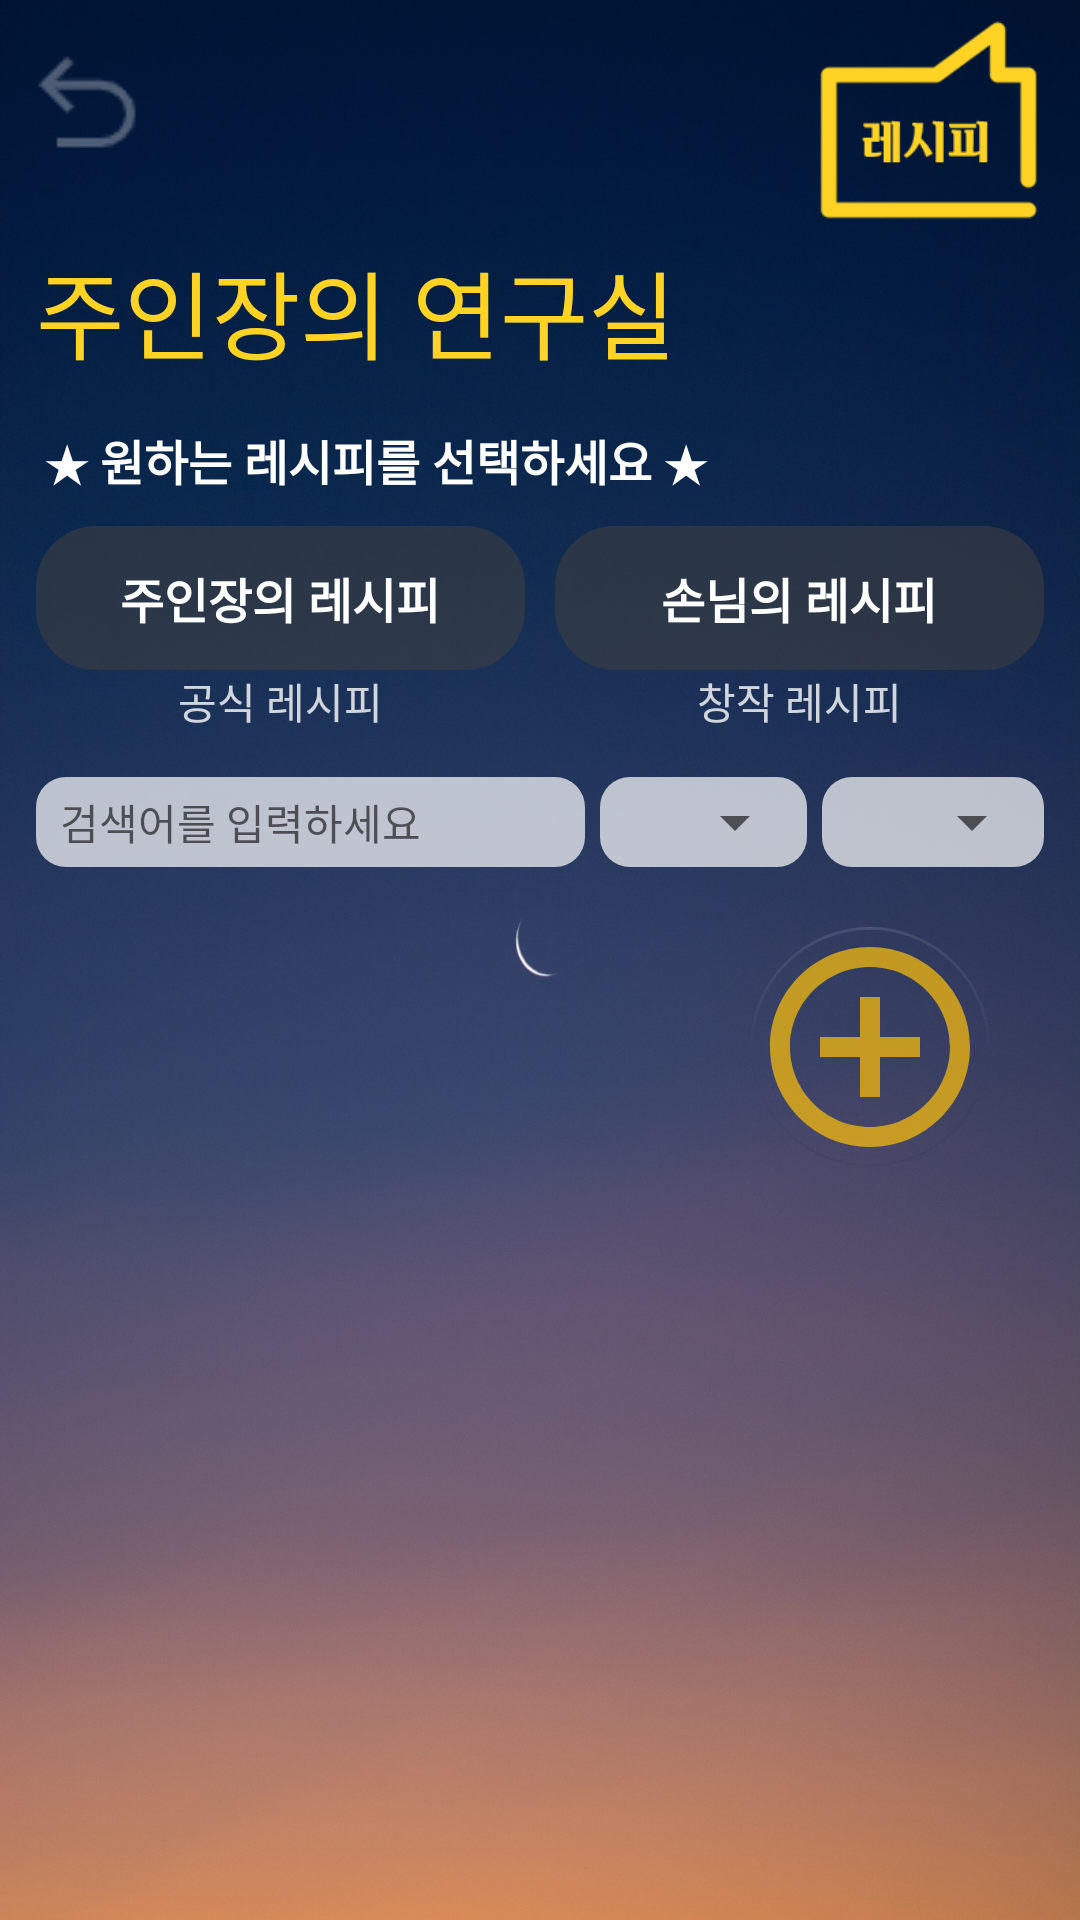

Locate icon controls on the screen. Image size 1080 × 1920, boxes as BBox(x1, y1, x2, y2).
add circle: BBox(750, 927, 990, 1167)
back: BBox(39, 57, 135, 148)
